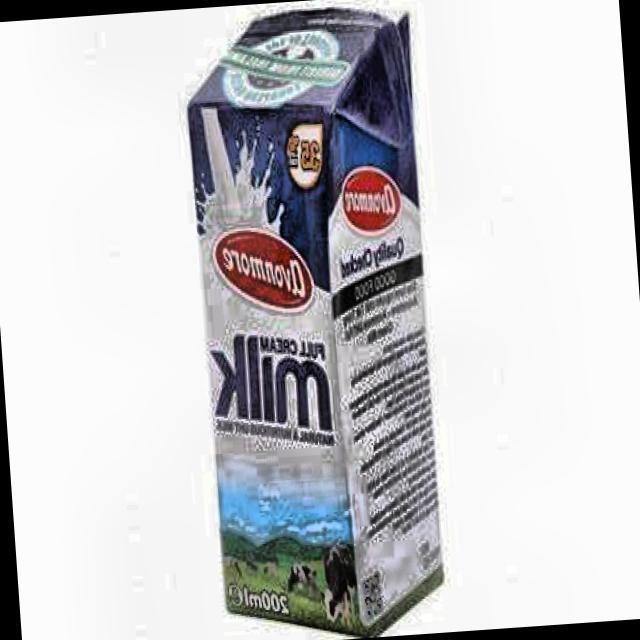cardboard: (180, 0, 453, 640)
